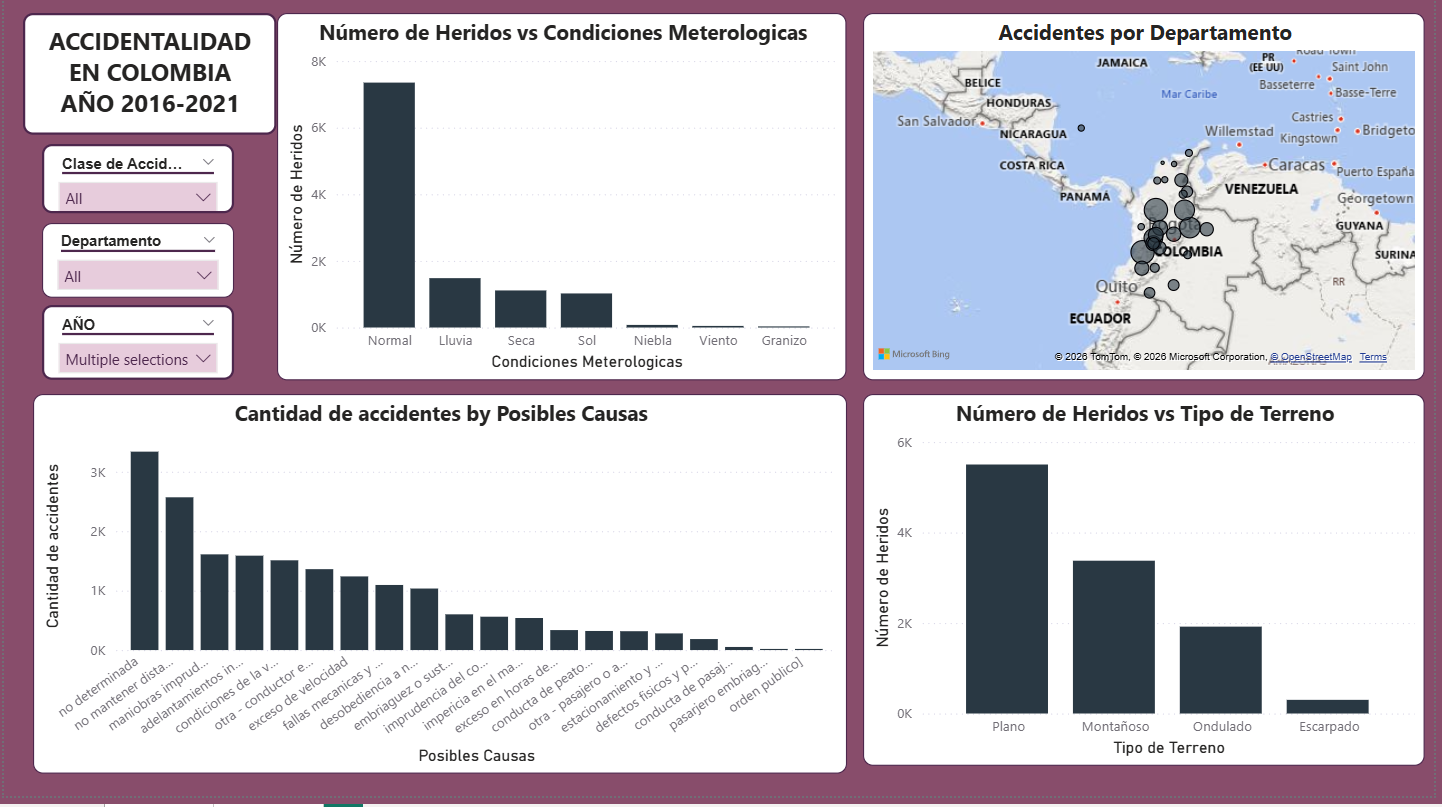

Layout of this report page (visuals, bound fields, positions):
{"tool":"powerbi","page":{"name":"Dashboard 2","canvas":[1280,720],"ordinal":1},"visuals":[{"type":"slicer","fields":{"Values":["dataset_accidentes_limpio.territorial"]},"box":[34,206.9,171.9,67.2],"z":0},{"type":"slicer","fields":{"Values":["dataset_accidentes_limpio.fecha_acc.Variation.Date Hierarchy.Year"]},"box":[34,280.3,171.9,67.2],"z":1000},{"type":"textbox","title":"bffgfgfg","box":[17,18.8,227.5,109.3],"z":2000},{"type":"slicer","fields":{"Values":["dataset_accidentes_limpio.clase_accidente"]},"box":[34,136.1,171.9,61.8],"z":3000},{"type":"clusteredColumnChart","fields":{"Category":["dataset_accidentes_limpio.causa_posible"],"Y":["CountNonNull(dataset_accidentes_limpio.clase_accidente)"]},"box":[26,360,729,340.3],"z":4000},{"type":"clusteredColumnChart","title":"Número de Heridos vs Condiciones Meterologicas","fields":{"Y":["Sum(dataset_accidentes_limpio.n_heridos)"],"Category":["dataset_accidentes_limpio.condic_meteor"]},"box":[244.5,18.8,510.4,328.7],"z":5000},{"type":"map","title":"Accidentes por Departamento","fields":{"Size":["dataset_accidentes_limpio.Total Accidentes"],"Category":["dataset_accidentes_limpio.Ubicacion_Mapa","dataset_accidentes_limpio.Pais"]},"box":[769.3,18.8,503.3,328.7],"z":6000},{"type":"columnChart","title":"Número de Heridos vs Tipo de Terreno","fields":{"Category":["dataset_accidentes_limpio.terreno"],"Y":["Sum(dataset_accidentes_limpio.n_heridos)"]},"box":[769.3,360,503.3,333.1],"z":7000}]}

Visuals, with their boxes in screenshot pixels (x1, y1, x2, y2), scaled from the page's 1280x720 canvas onto the 1442x807 screenshot:
slicer - dataset_accidentes_limpio.territorial: (left=38, top=232, right=232, bottom=307)
slicer - dataset_accidentes_limpio.fecha_acc.Variation.Date Hierarchy.Year: (left=38, top=314, right=232, bottom=389)
"bffgfgfg" textbox: (left=19, top=21, right=275, bottom=144)
slicer - dataset_accidentes_limpio.clase_accidente: (left=38, top=153, right=232, bottom=222)
clusteredColumnChart - dataset_accidentes_limpio.causa_posible x CountNonNull(dataset_accidentes_limpio.clase_accidente): (left=29, top=404, right=851, bottom=785)
"Número de Heridos vs Condiciones Meterologicas" clusteredColumnChart: (left=275, top=21, right=850, bottom=389)
"Accidentes por Departamento" map: (left=867, top=21, right=1434, bottom=389)
"Número de Heridos vs Tipo de Terreno" columnChart: (left=867, top=404, right=1434, bottom=777)
